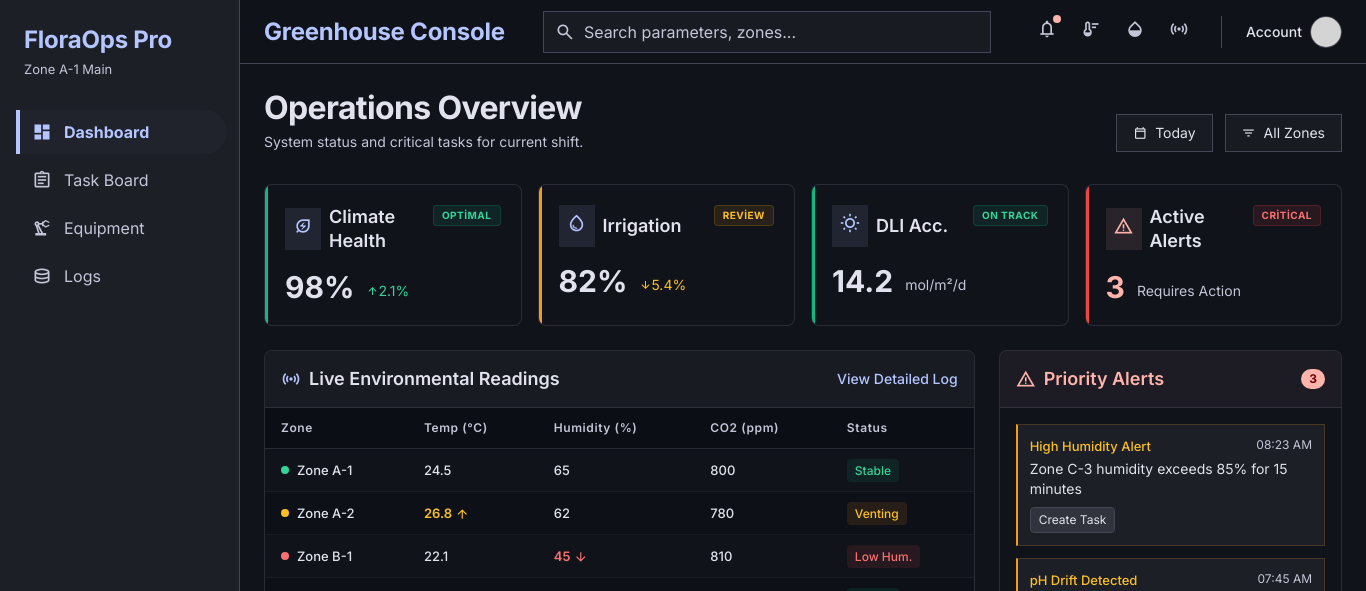
Test: App Shell › navigates to Task Board when clicked
Click the button "Task Board": {"x": 122, "y": 180} [16,158,227,202]
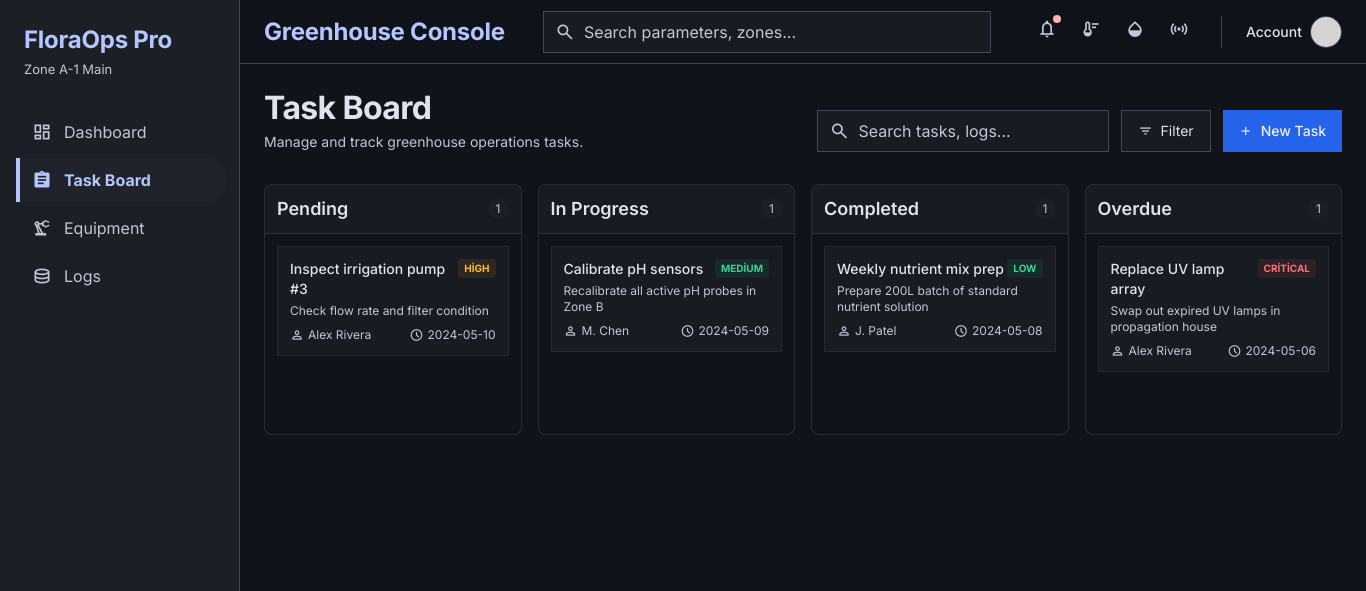
Expected: the text "Manage and track greenhouse operations tasks." is shown, [264,132,583,152]
